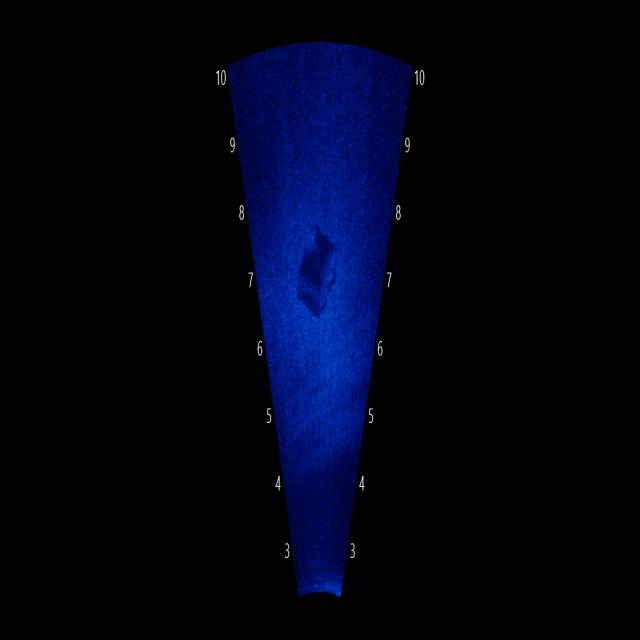square: (278, 204, 344, 328)
